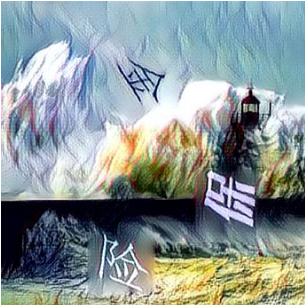hanzi: (201, 164, 266, 229), (94, 230, 155, 299), (111, 54, 172, 108)
